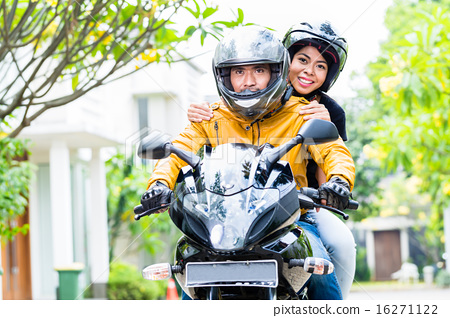helmet: (204, 19, 286, 104), (283, 15, 350, 78)
